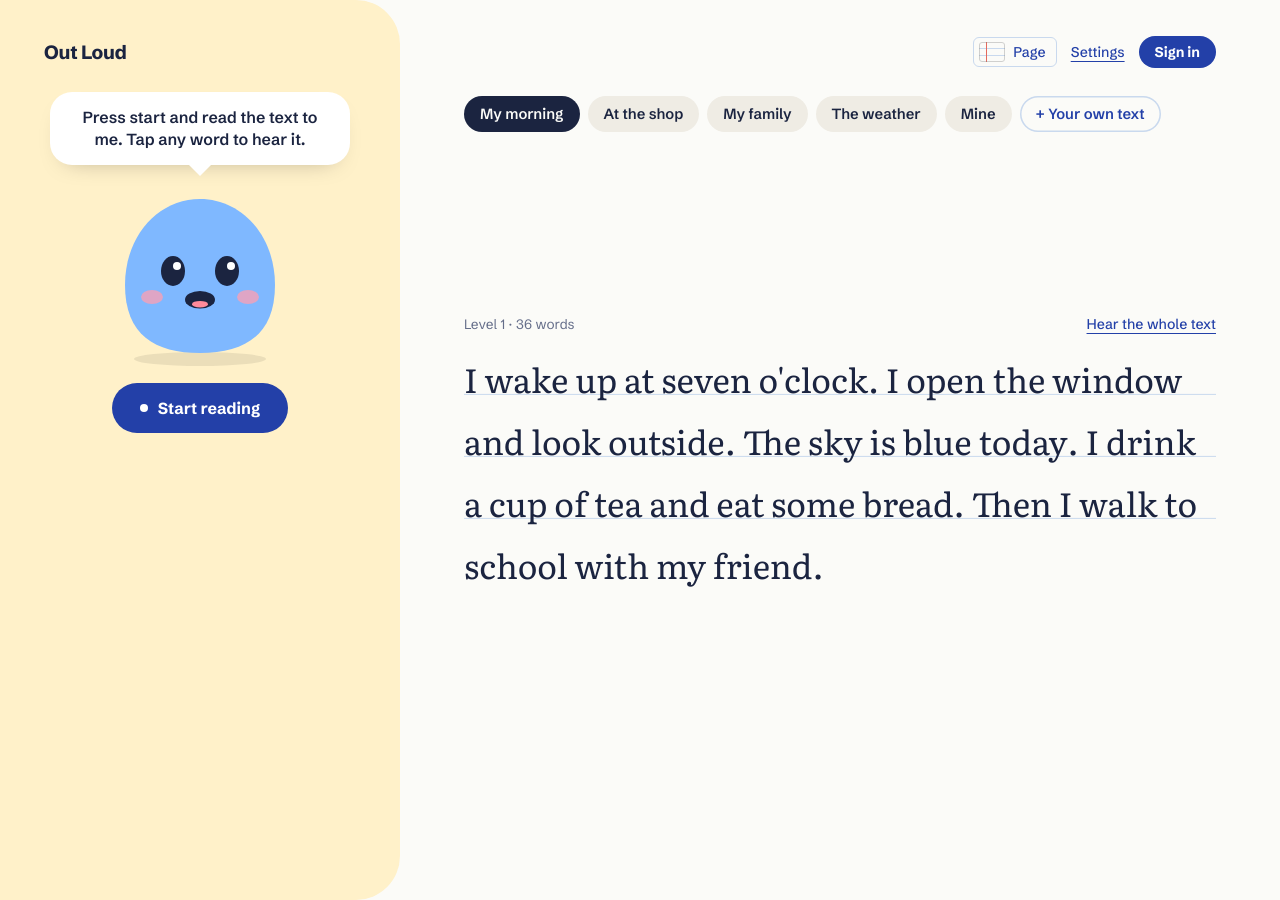
Scenario: accounts and sync › signs out, keeping the texts on this device
Click the button "Sign in": click(1177, 52) [1139, 36, 1216, 68]
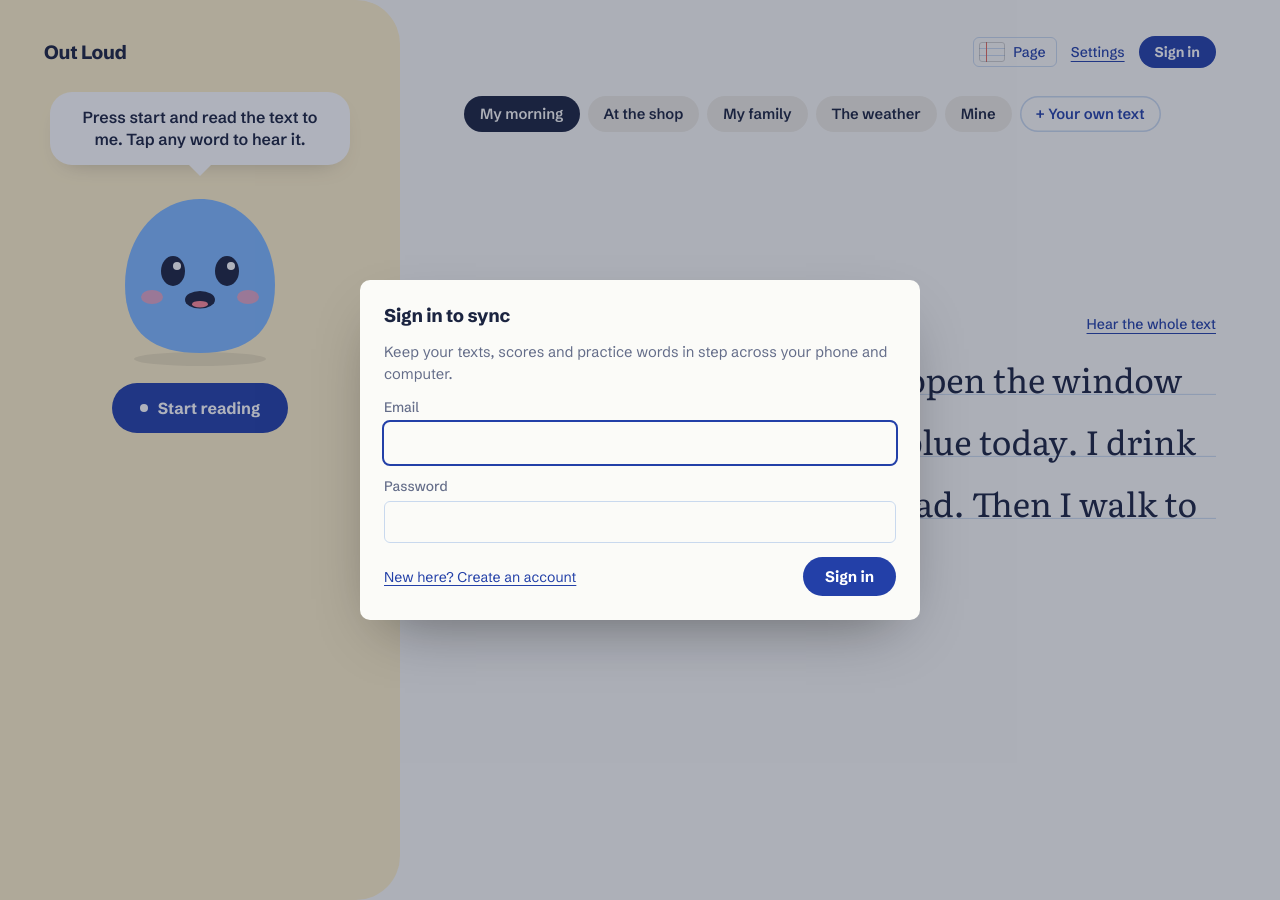
In the field labelled "Email": (640, 443) [384, 422, 896, 464], type "me@example.com"
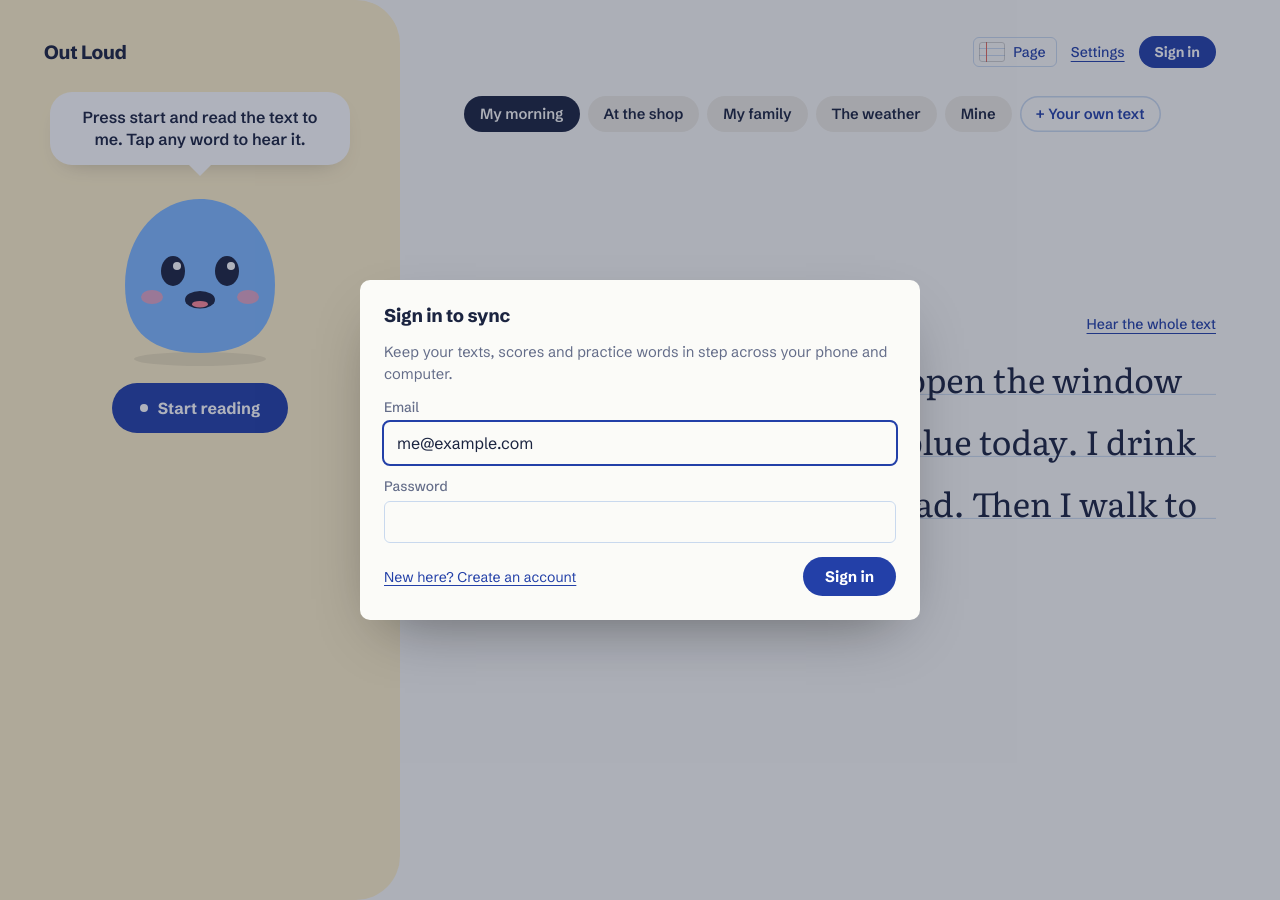
In the password field labelled "Password": (640, 522) [384, 501, 896, 543], type "right password"
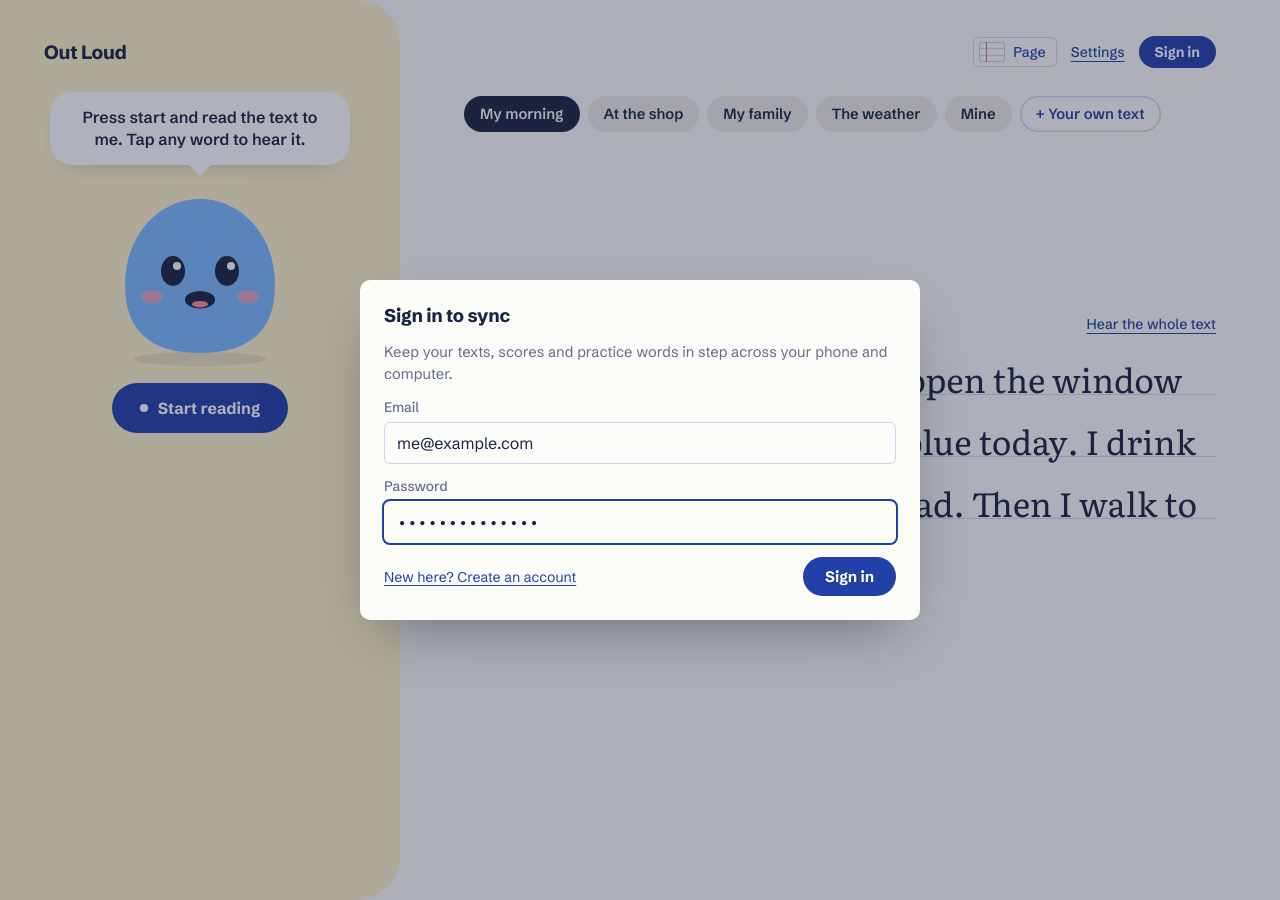
Click the button "Sign in": click(850, 577) [803, 557, 896, 596]
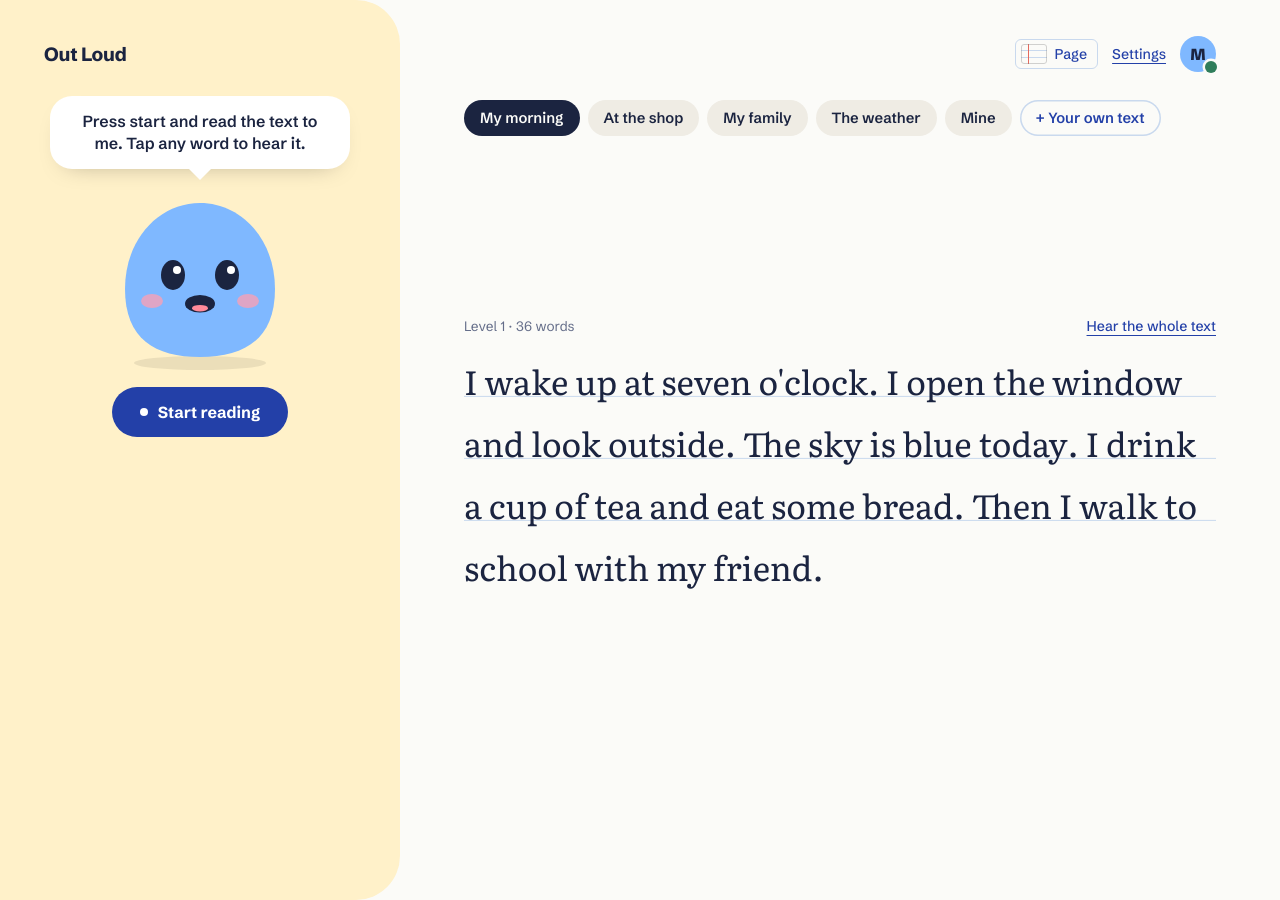
Click the button named "me@example.com": click(1198, 54) [1180, 36, 1216, 72]
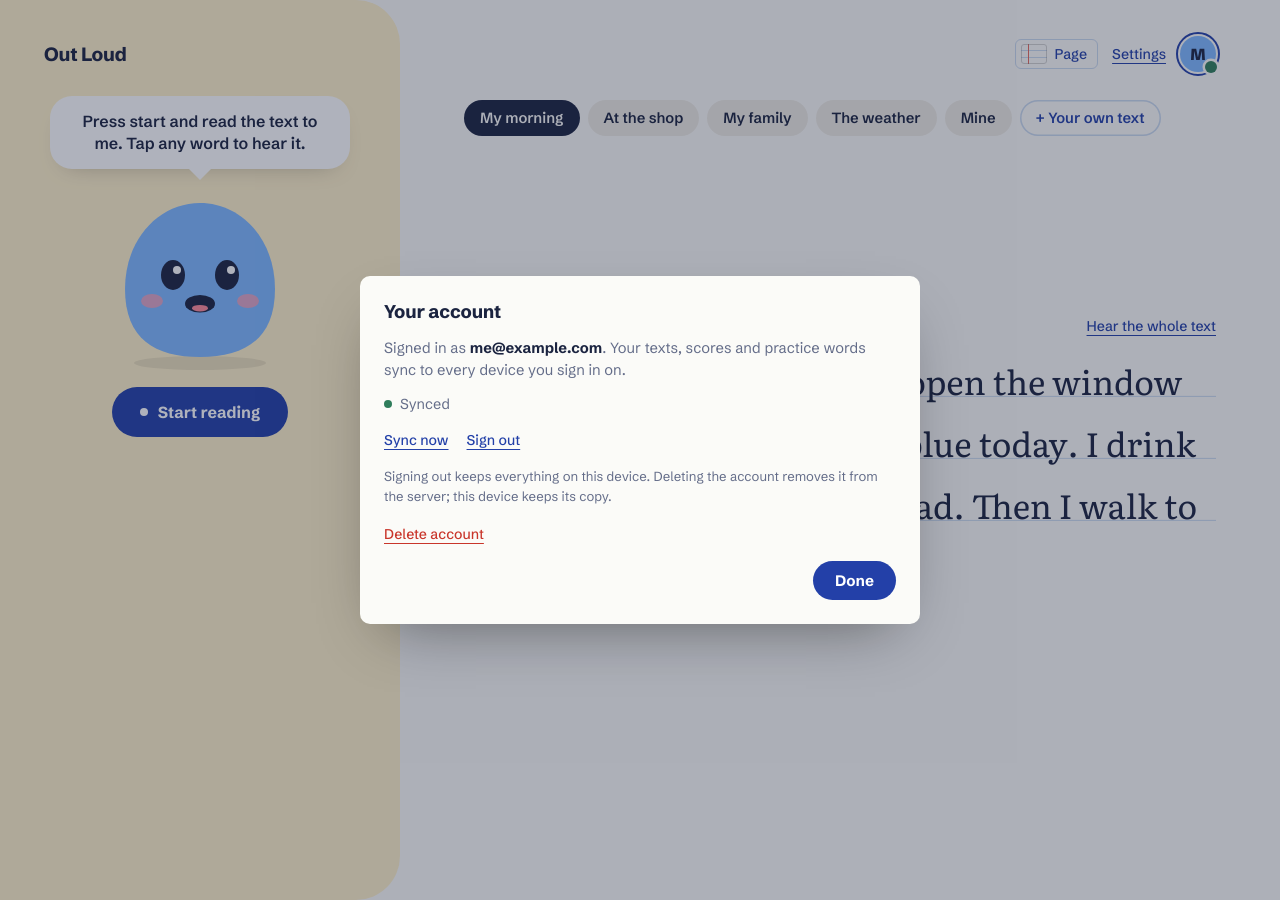
Click the button "Sign out": click(493, 440) [466, 427, 520, 453]
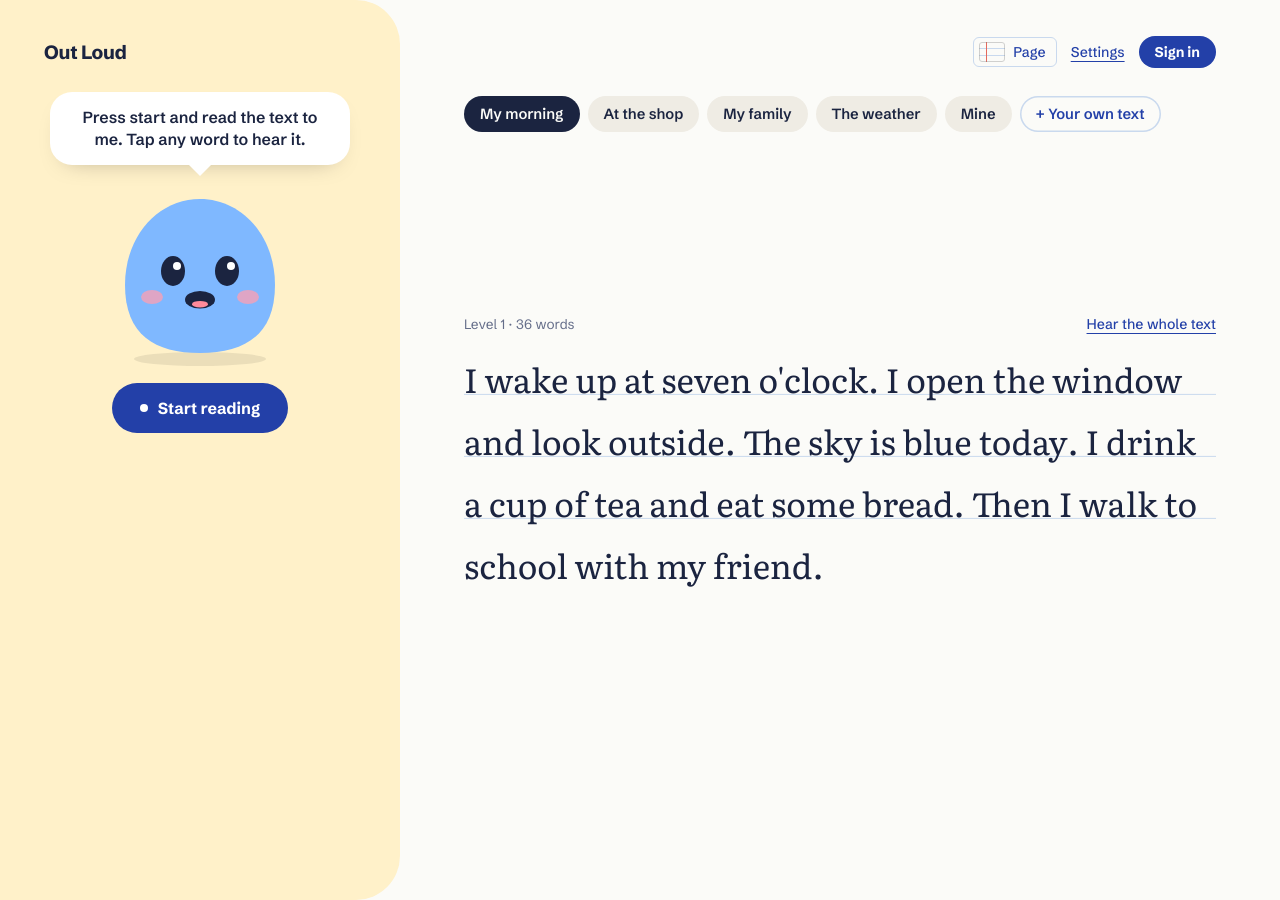
Expected: the button "Mine" is shown, [945, 96, 1012, 132]
Expected: the button "Sign in" is shown, [1139, 36, 1216, 68]
